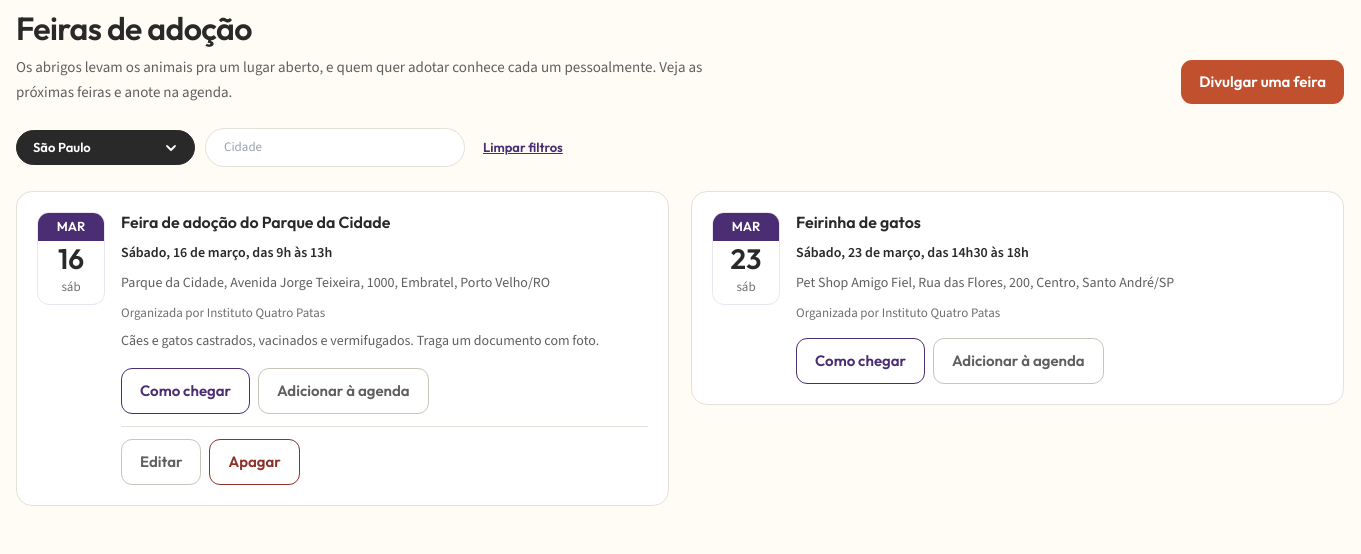
Test: abrigo › vê o botão de divulgar e pode apagar a própria feira, depois de confirmar
Click the button "Apagar": (255, 462) [210,440,300,486]
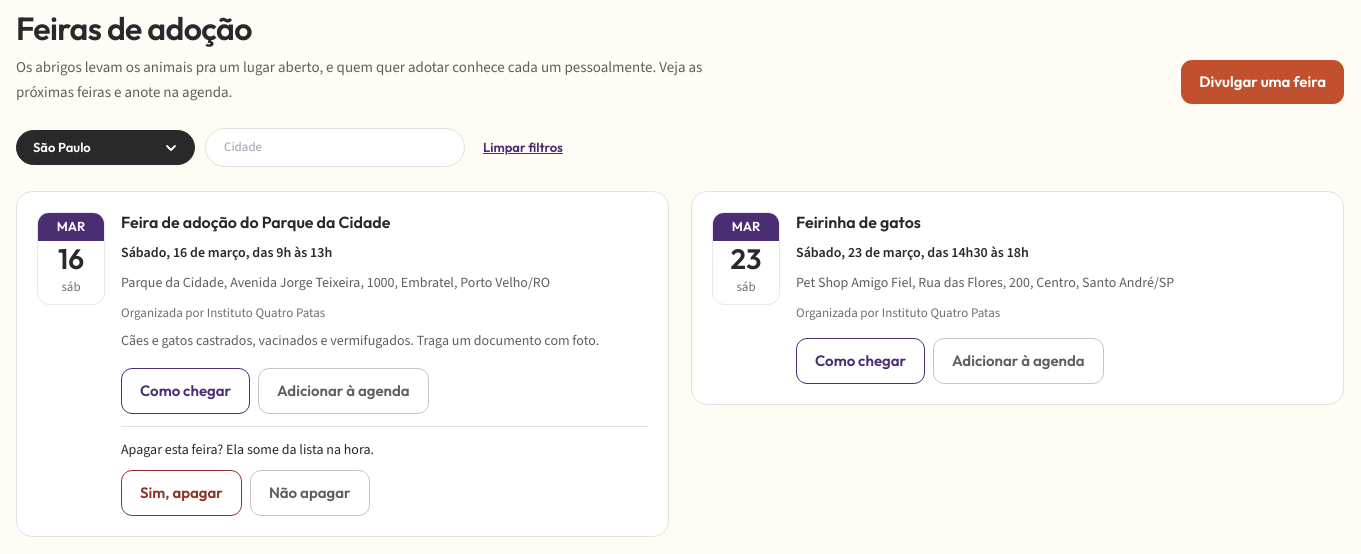
Click the button "Não apagar": (310, 493) [250,470,370,516]
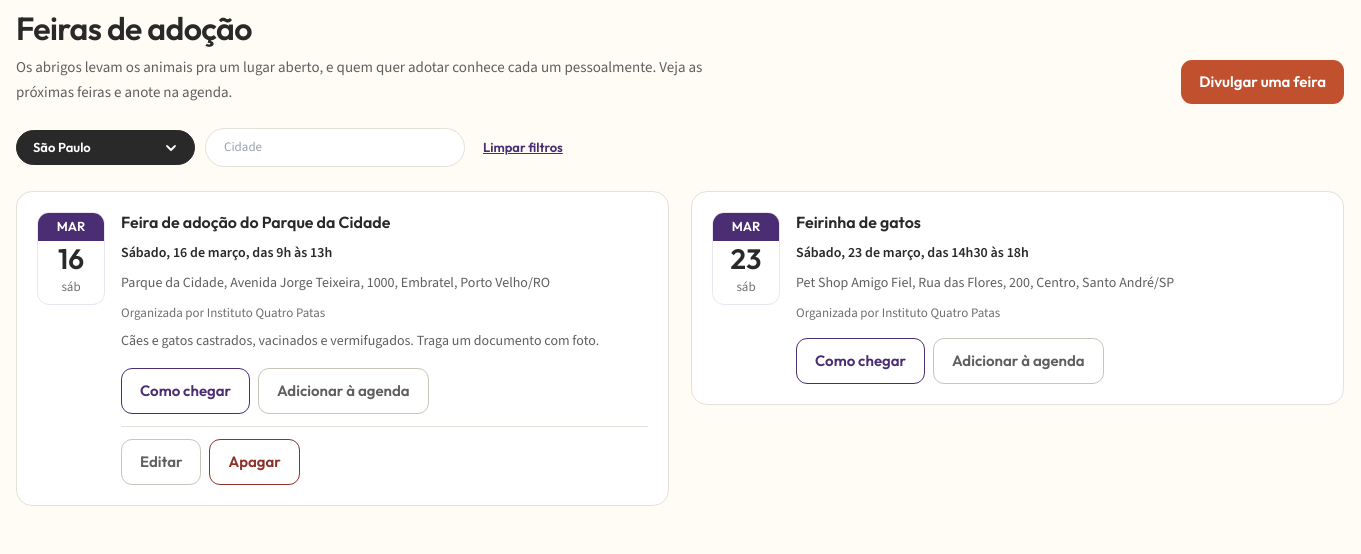
Click the button "Apagar": (255, 462) [210,440,300,486]
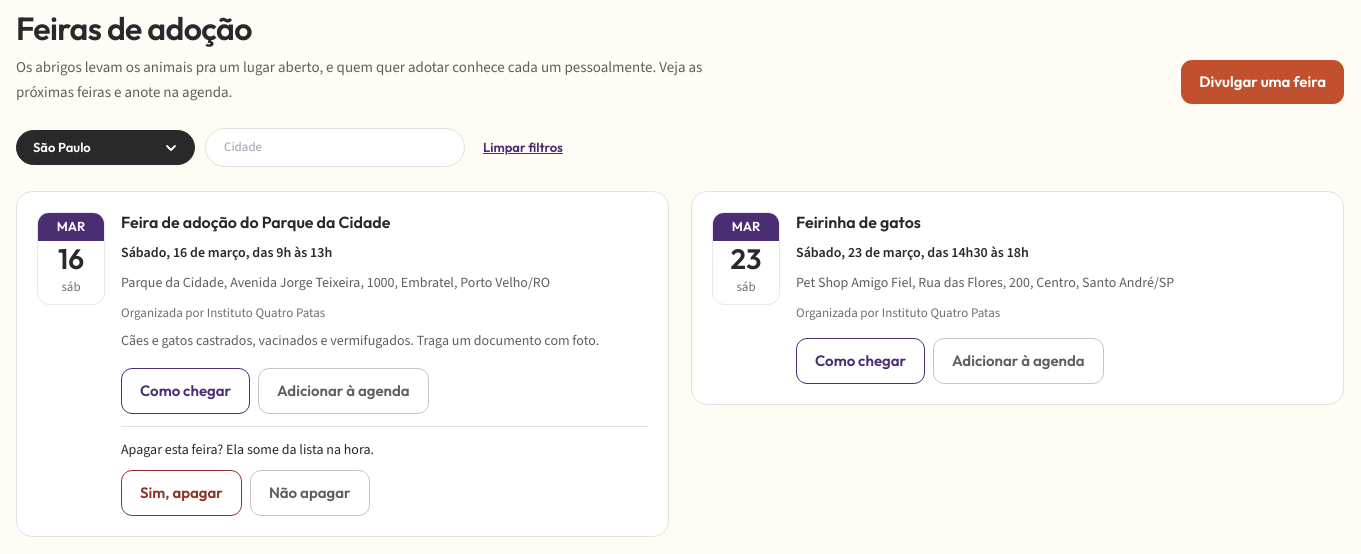
Click the button "Sim, apagar": (181, 493) [121,470,242,516]
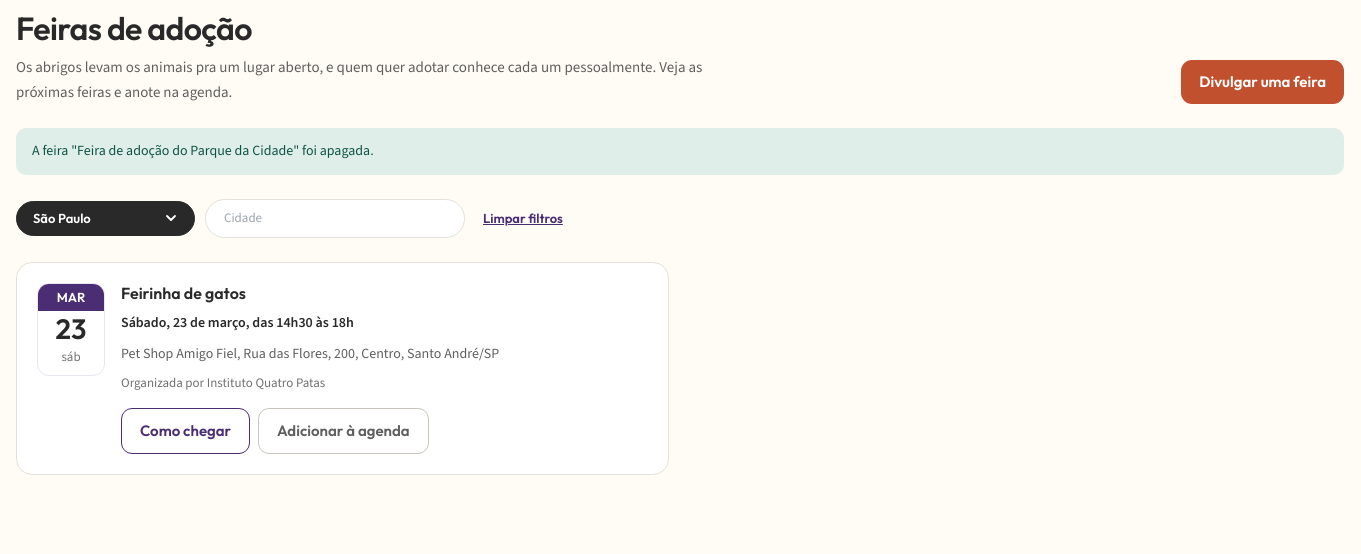
Now the text "A feira \"Feira de adoção do Parque da Cidade\" foi apagada." is shown, box [16,128,1344,175]
